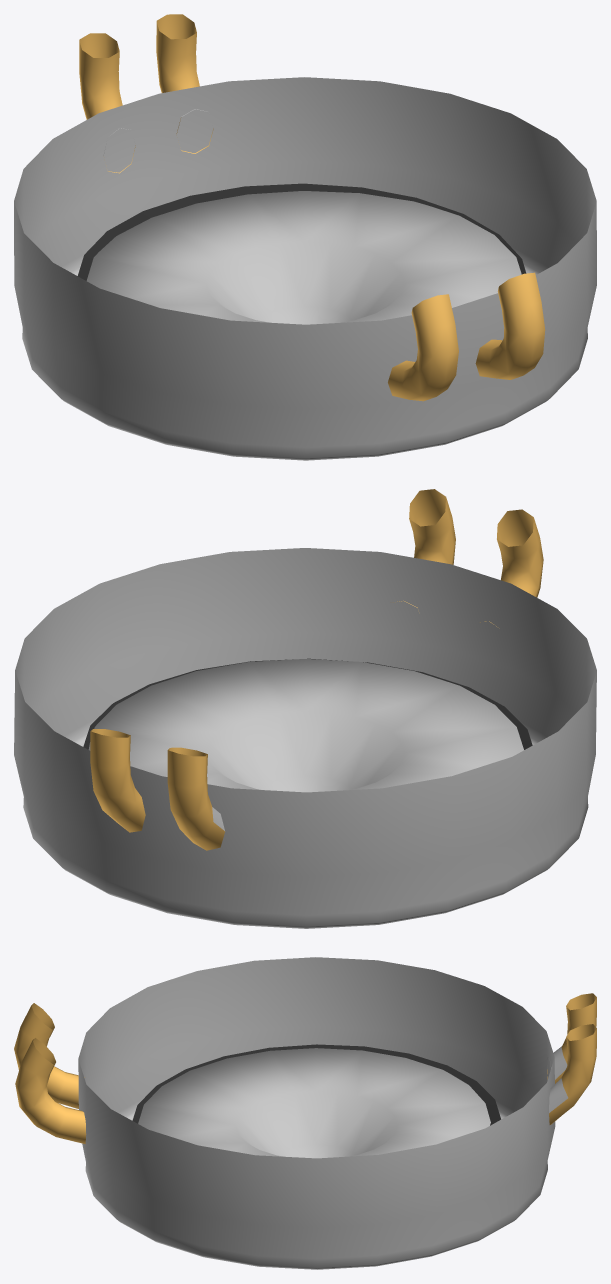
The model's file is StandardTO.glb.
3 renders of one model, top to bottom at view 1: azimuth 30°, elevation 25°; view 2: azimuth 150°, elevation 25°; view 3: azimuth 270°, elevation 25°, orthographic. The views are drawn at different scales.
Parts seen in each view (by area): view 1: Shuttle.015, Shuttle.001, Shuttle.003; view 2: Shuttle.015, Shuttle.001, Shuttle.003; view 3: Shuttle.015, Shuttle.001, Shuttle.003.
Boxes of the visible parts, left/top/right/bottom form: Shuttle.015: left=14, top=77, right=596, bottom=460; Shuttle.001: left=79, top=14, right=545, bottom=401; Shuttle.003: left=78, top=183, right=526, bottom=280; Shuttle.015: left=14, top=548, right=596, bottom=928; Shuttle.001: left=90, top=489, right=543, bottom=850; Shuttle.003: left=83, top=658, right=532, bottom=749; Shuttle.015: left=78, top=957, right=568, bottom=1269; Shuttle.001: left=14, top=993, right=596, bottom=1144; Shuttle.003: left=132, top=1044, right=500, bottom=1125.
Bounding box in the file's own units: 1.93 × 0.7421 × 2.36.
